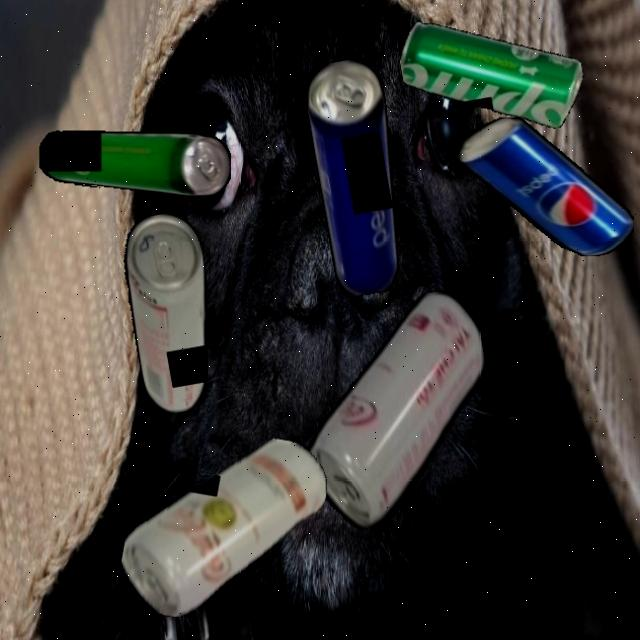debris: (282, 286, 510, 536), (113, 416, 334, 639), (394, 0, 591, 152), (300, 54, 417, 298), (457, 118, 634, 256), (115, 209, 229, 417), (38, 128, 231, 196)
